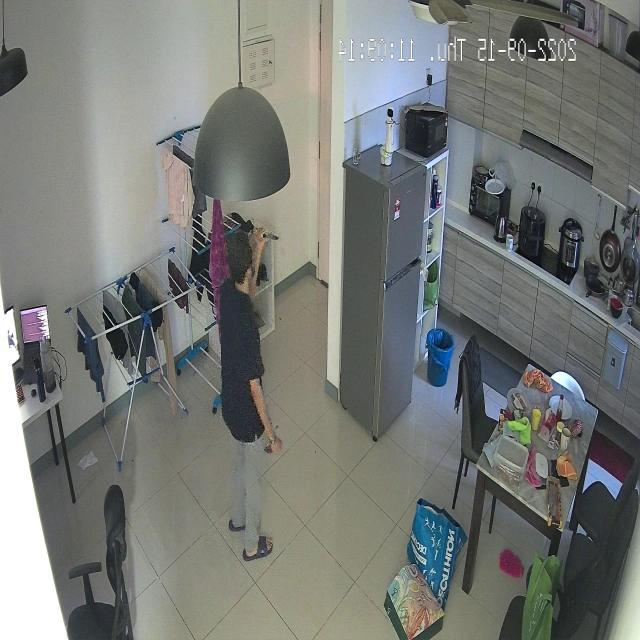Knife: (248, 219, 289, 253)
